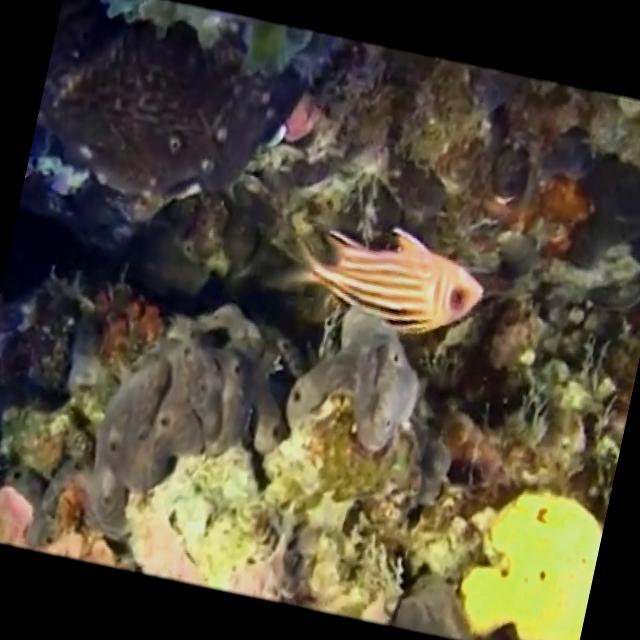Asker Baligi: (272, 200, 496, 350)
